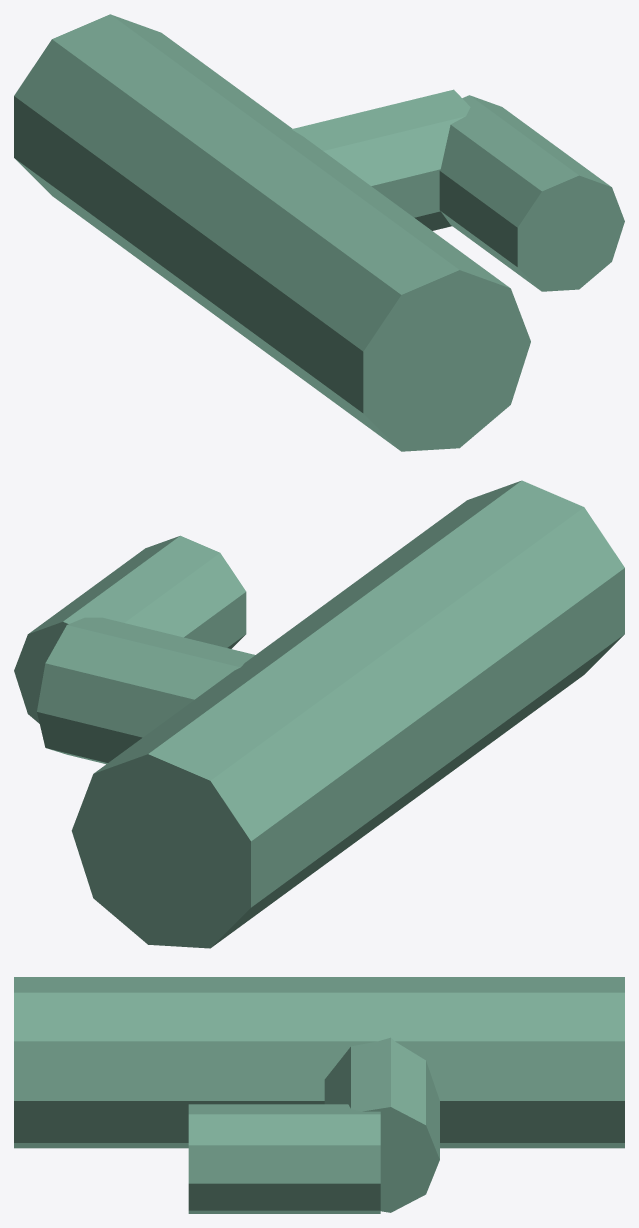
Rendered from cactus.glb.
3 views of the same model, one above another, from view 1: azimuth 30°, elevation 25°; view 2: azimuth 150°, elevation 25°; view 3: azimuth 270°, elevation 25° (orthographic). The views are drawn at different scales.
Parts seen in each view (by area): view 1: world; view 2: world; view 3: world.
Part boxes in pixels (x1=…): world: x1=14, y1=14, x2=624, y2=451; world: x1=14, y1=480, x2=624, y2=948; world: x1=14, y1=977, x2=624, y2=1213.
Bounding box in the file's own units: 1.04 × 0.4924 × 1.75.
